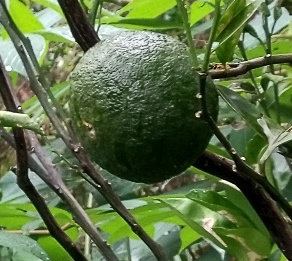Cam: (66, 27, 220, 186)
